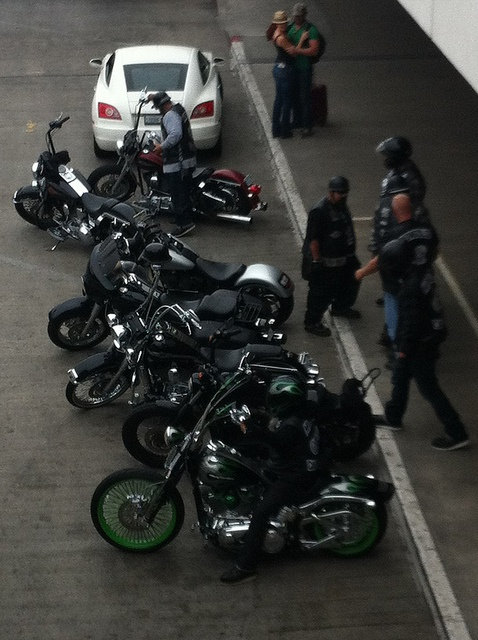non-vehicle: (92, 398, 394, 558), (65, 270, 326, 409), (124, 350, 383, 467), (45, 231, 278, 351), (85, 85, 270, 224), (9, 109, 147, 253), (126, 213, 295, 323)
